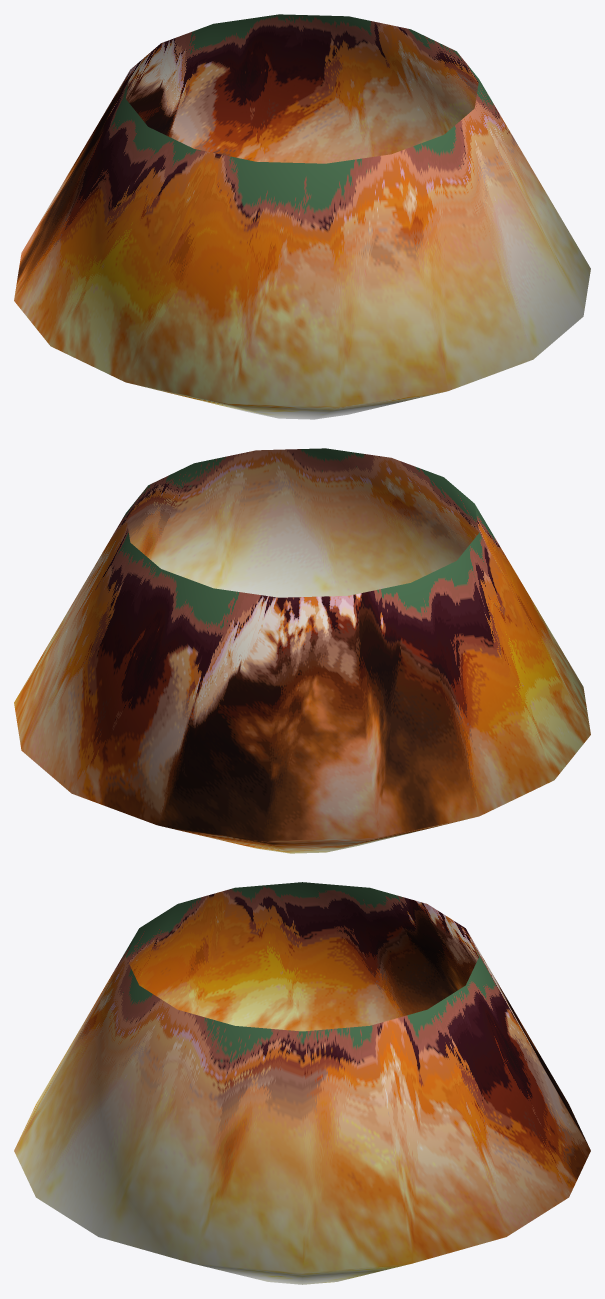
File: muzzle.fbx
3 views of the same model, one above another, from view 1: azimuth 30°, elevation 25°; view 2: azimuth 150°, elevation 25°; view 3: azimuth 270°, elevation 25° (orthographic).
Visible parts, largest first — view 1: Circle; view 2: Circle; view 3: Circle.
Part boxes in pixels (left/top/right/bottom): Circle: left=14, top=14, right=590, bottom=419; Circle: left=14, top=448, right=590, bottom=853; Circle: left=14, top=882, right=590, bottom=1284.
Size of the model in its own units: 103 by 57.12 by 103.
